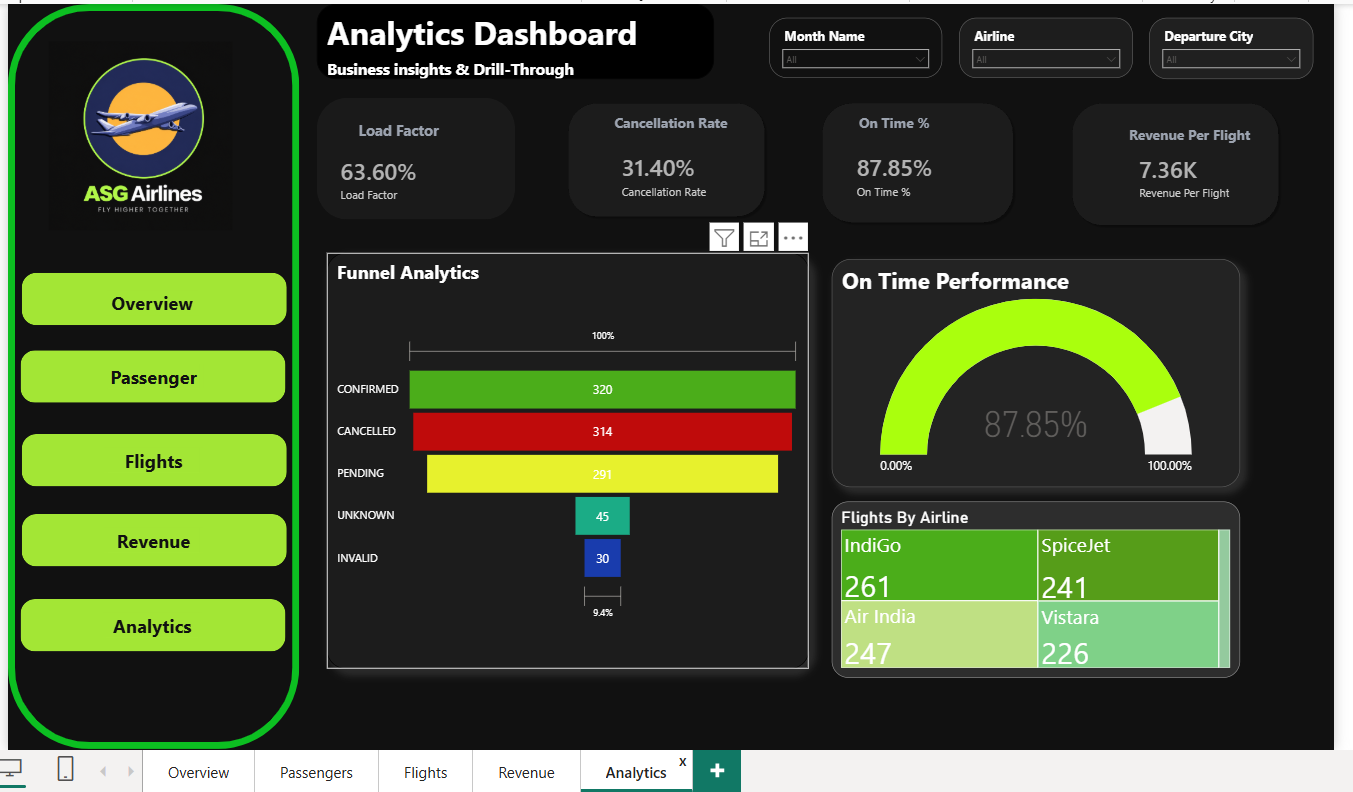

This screenshot's page, from the dashboard's own definition file:
{"tool":"powerbi","page":{"name":"Analytics","canvas":[1920,1080],"ordinal":4},"visuals":[{"type":"shape","box":[1534.5,138.2,310.9,189.1],"z":0},{"type":"shape","box":[0,0,421.7,1078.6],"z":1000},{"type":"textbox","title":"Analytics Dashboard","box":[447,0,575.5,108.6],"z":2000},{"type":"image","box":[30.8,54.3,322.1,273.3],"z":3000},{"type":"shape","box":[19.9,389.1,383.6,76],"z":4000},{"type":"textbox","title":"Overview","box":[137.5,414.4,143,36.2],"z":5000},{"type":"shape","box":[18.1,501.3,383.6,76],"z":6000},{"type":"shape","box":[19.9,622.5,383.6,76],"z":7000},{"type":"shape","box":[19.9,738.3,383.6,76],"z":8000},{"type":"shape","box":[18.1,861.4,383.6,76],"z":9000},{"type":"textbox","title":"Passengers","box":[139.3,521.2,143,36.2],"z":10000},{"type":"textbox","title":"Flights","box":[139.3,642.4,143,36.2],"z":11000},{"type":"textbox","title":"Analytics","box":[137.5,881.3,143,36.2],"z":12000},{"type":"textbox","title":"Revenue","box":[139.3,758.2,143,36.2],"z":13000},{"type":"shape","box":[447.3,136.4,287.3,176.4],"z":14000},{"type":"textbox","title":"Load Factor","box":[477.8,168.3,175.5,38],"z":15000},{"type":"shape","box":[805.5,138.2,296.4,176.4],"z":16000},{"type":"shape","box":[1174,138.2,288.6,184.9],"z":16000,"group":"g1"},{"type":"textbox","box":[1022.5,389.1,224.4,86.9],"z":17000},{"type":"cardVisual","fields":{"Data":["flights.Load Factor"]},"box":[452.7,190.9,281.8,114.5],"z":19000},{"type":"textbox","title":"On Time %","box":[1113.7,157.9,340,89.1],"z":20000,"group":"g1"},{"type":"cardVisual","fields":{"Data":["flights.Cancellation Rate"]},"box":[860,185.5,281.8,114.5],"z":20000},{"type":"funnel","title":"Funnel Analytics","fields":{"Y":["bookings.Bookings Count"],"Category":["bookings.status"]},"box":[461.5,360.1,698.5,602.6],"z":21000},{"type":"gauge","title":"On Time Performance","fields":{"Y":["flights.On Time %"]},"box":[1192.9,369.6,591.1,330.4],"z":22000},{"type":"slicer","fields":{"Values":["bookings.Month Name"]},"box":[1101.6,20.3,250,87.5],"z":24000},{"type":"slicer","fields":{"Values":["flights.source"]},"box":[1653.1,20.3,237.5,89.1],"z":25000},{"type":"cardVisual","fields":{"Data":["flights.On Time %"]},"box":[1200.4,186.1,357.8,137.6],"z":26000,"group":"g1"},{"type":"treemap","title":"Flights By Airline","fields":{"Group":["flights.airline"],"Values":["flights.Total Flights"]},"box":[1192.9,719.6,591.1,255.4],"z":26000},{"type":"slicer","fields":{"Values":["flights.airline"]},"box":[1376.6,20.3,251.6,87.5],"z":27000},{"type":"group","id":"g1","title":"Group 1","box":[1113.7,138.2,444.5,185.5],"z":28000},{"type":"textbox","title":"Cancellation Rate","box":[840,158.2,240,85.5],"z":30000},{"type":"textbox","title":"Revenue Per Flight","box":[1590.9,176.4,240,85.5],"z":31000},{"type":"cardVisual","fields":{"Data":["flights.Revenue Per Flight"]},"box":[1609.1,187.3,218.2,130.9],"z":32000}]}

Visuals, with their boxes on the page's 1920x1080 design canvas (x1, y1, x2, y2). These are canvas units, not pixel positions in the 1353x792 screenshot, which may show the page scaled, cropped or inside an application window:
shape: 1534:138:1845:327
shape: 0:0:422:1079
"Analytics Dashboard" textbox: 447:0:1022:109
image: 31:54:353:328
shape: 20:389:404:465
"Overview" textbox: 138:414:280:451
shape: 18:501:402:577
shape: 20:622:404:698
shape: 20:738:404:814
shape: 18:861:402:937
"Passengers" textbox: 139:521:282:557
"Flights" textbox: 139:642:282:679
"Analytics" textbox: 138:881:280:918
"Revenue" textbox: 139:758:282:794
shape: 447:136:735:313
"Load Factor" textbox: 478:168:653:206
shape: 806:138:1102:315
shape: 1174:138:1463:323
textbox: 1022:389:1247:476
cardVisual - flights.Load Factor: 453:191:734:305
"On Time %" textbox: 1114:158:1454:247
cardVisual - flights.Cancellation Rate: 860:186:1142:300
"Funnel Analytics" funnel: 462:360:1160:963
"On Time Performance" gauge: 1193:370:1784:700
slicer - bookings.Month Name: 1102:20:1352:108
slicer - flights.source: 1653:20:1891:109
cardVisual - flights.On Time %: 1200:186:1558:324
"Flights By Airline" treemap: 1193:720:1784:975
slicer - flights.airline: 1377:20:1628:108
"Group 1" group: 1114:138:1558:324
"Cancellation Rate" textbox: 840:158:1080:244
"Revenue Per Flight" textbox: 1591:176:1831:262
cardVisual - flights.Revenue Per Flight: 1609:187:1827:318
